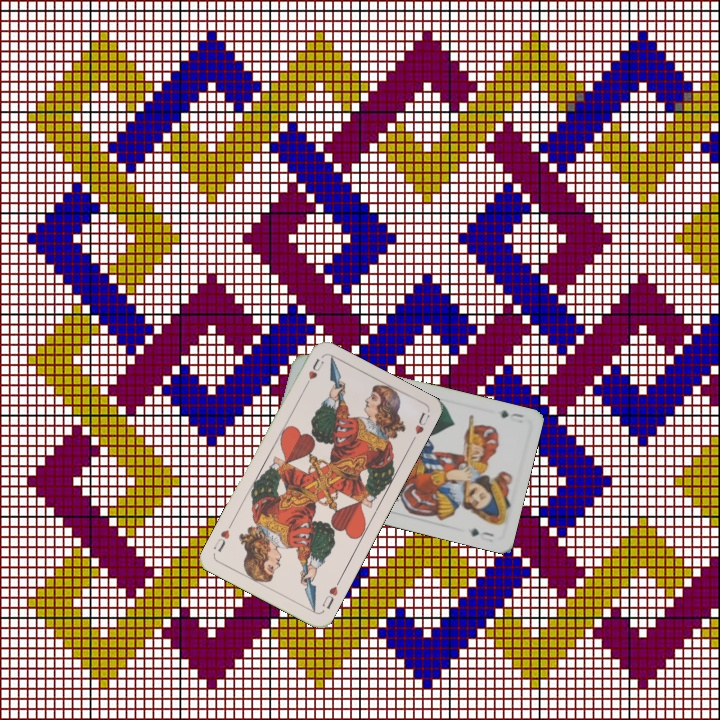GU: (496, 406, 527, 422)
HU: (300, 354, 327, 391), (318, 582, 341, 612)
